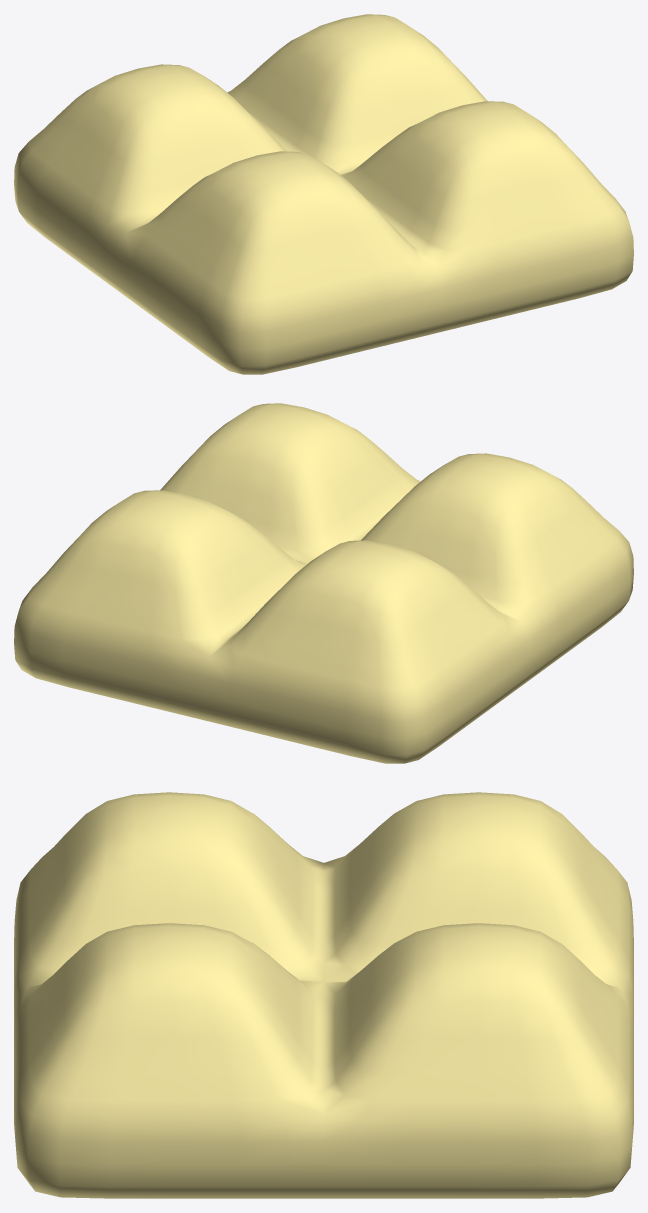
File: Chocwhite_03.fbx
3 renders of one model, top to bottom at view 1: azimuth 30°, elevation 25°; view 2: azimuth 150°, elevation 25°; view 3: azimuth 270°, elevation 25°, orthographic. The views are drawn at different scales.
Parts seen in each view (by area): view 1: Chocwhite_03_LOD0; view 2: Chocwhite_03_LOD0; view 3: Chocwhite_03_LOD0.
Part boxes in pixels (bbox=[...]): Chocwhite_03_LOD0: bbox=[14, 14, 633, 374]; Chocwhite_03_LOD0: bbox=[14, 403, 633, 763]; Chocwhite_03_LOD0: bbox=[14, 792, 633, 1198].
Size of what is drawn, in the model's own units: 570 by 212 by 570.
